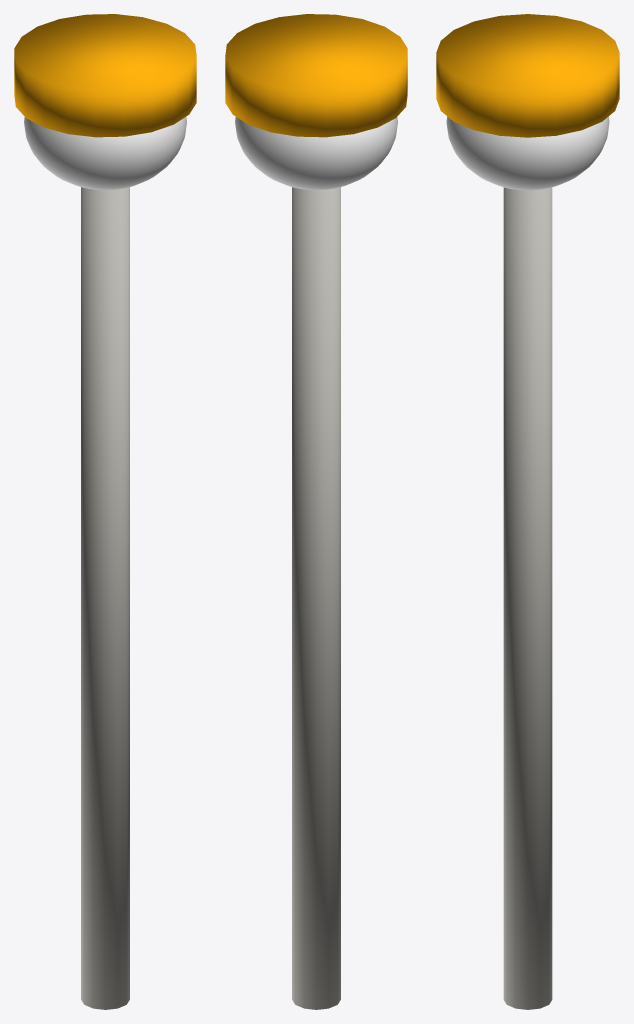
Rendered from prop_lamp.glb.
3 views of the same model, side by side, from view 1: azimuth 30°, elevation 25°; view 2: azimuth 150°, elevation 25°; view 3: azimuth 270°, elevation 25° (orthographic).
Visible parts, largest first — view 1: thin lamp pole, yellow lamp cap, small lamp bulb; view 2: thin lamp pole, yellow lamp cap, small lamp bulb; view 3: thin lamp pole, yellow lamp cap, small lamp bulb.
Part boxes in pixels (left/top/right/bottom): thin lamp pole: left=81, top=187, right=129, bottom=1009; yellow lamp cap: left=14, top=14, right=196, bottom=137; small lamp bulb: left=24, top=117, right=186, bottom=189; thin lamp pole: left=292, top=187, right=340, bottom=1009; yellow lamp cap: left=225, top=14, right=407, bottom=137; small lamp bulb: left=235, top=117, right=397, bottom=189; thin lamp pole: left=503, top=187, right=552, bottom=1009; yellow lamp cap: left=436, top=14, right=619, bottom=137; small lamp bulb: left=446, top=116, right=609, bottom=190.
Bounding box in the file's own units: 0.09 × 0.5125 × 0.09.
